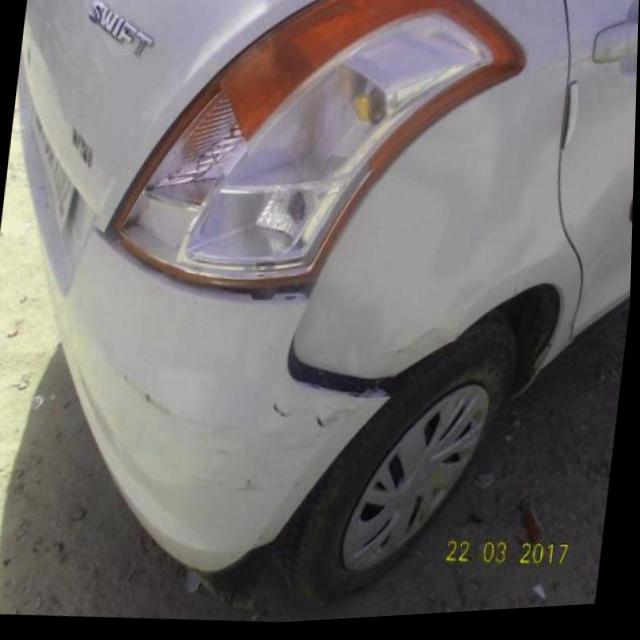Car-Damage: (146, 9, 491, 299), (282, 331, 417, 423), (182, 258, 319, 322), (121, 367, 236, 443), (265, 389, 366, 447)
